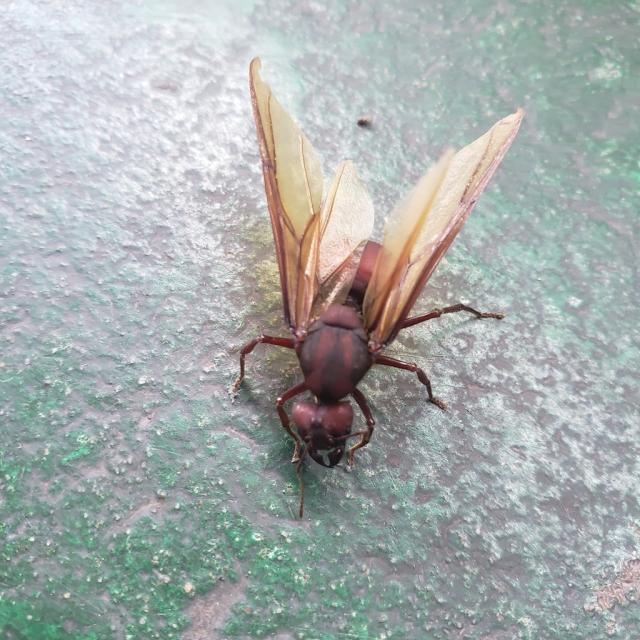Alive-Female-Alate: (232, 56, 524, 519)
